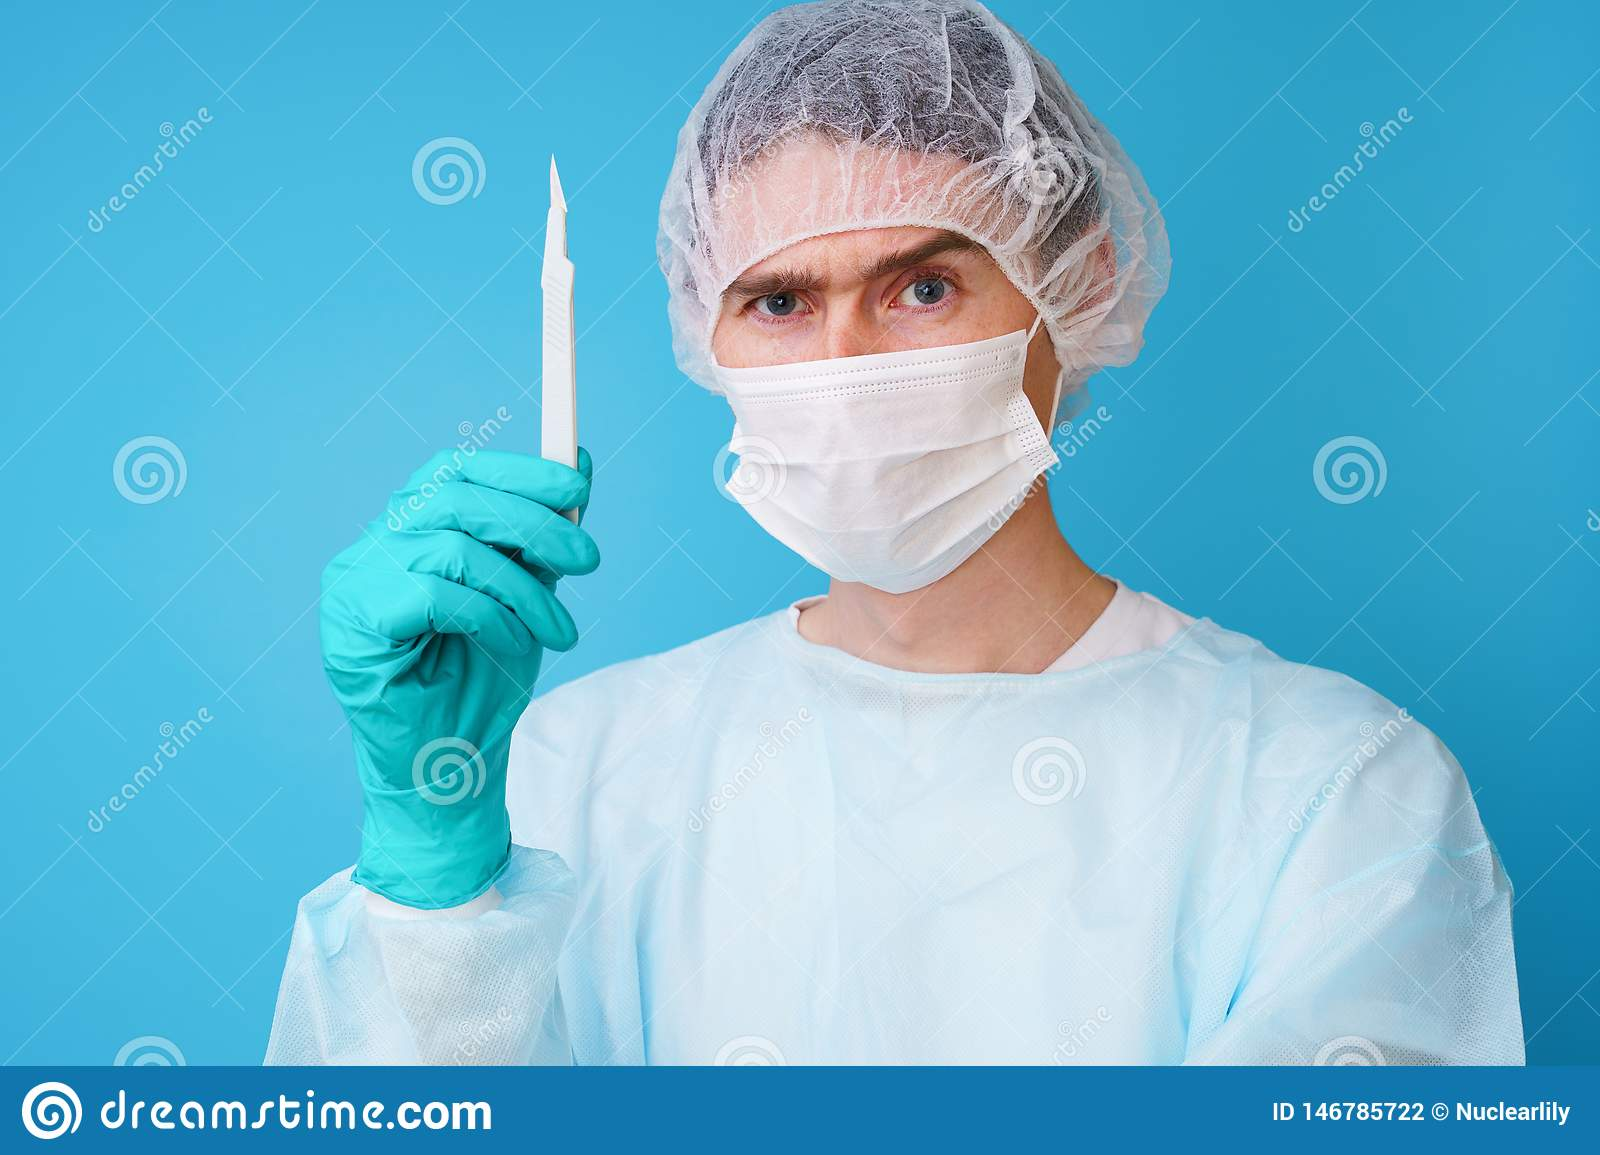mask: (718, 365, 1082, 601)
